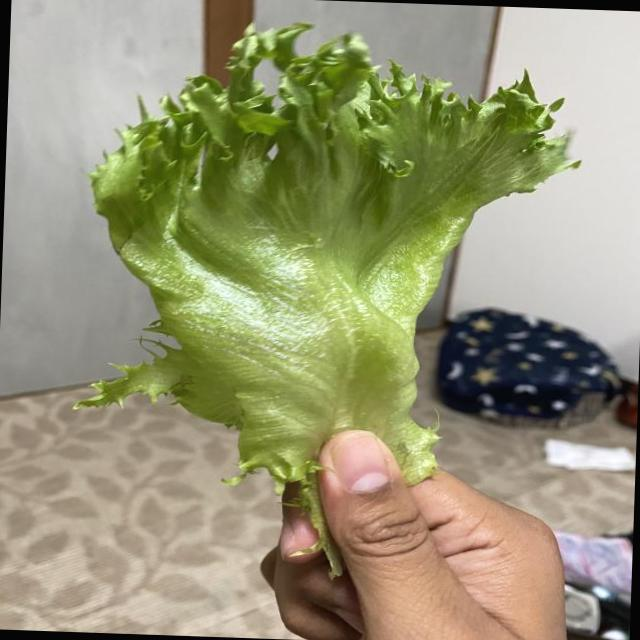Lettuce-Ready-to-Harvest: (82, 25, 576, 575)
